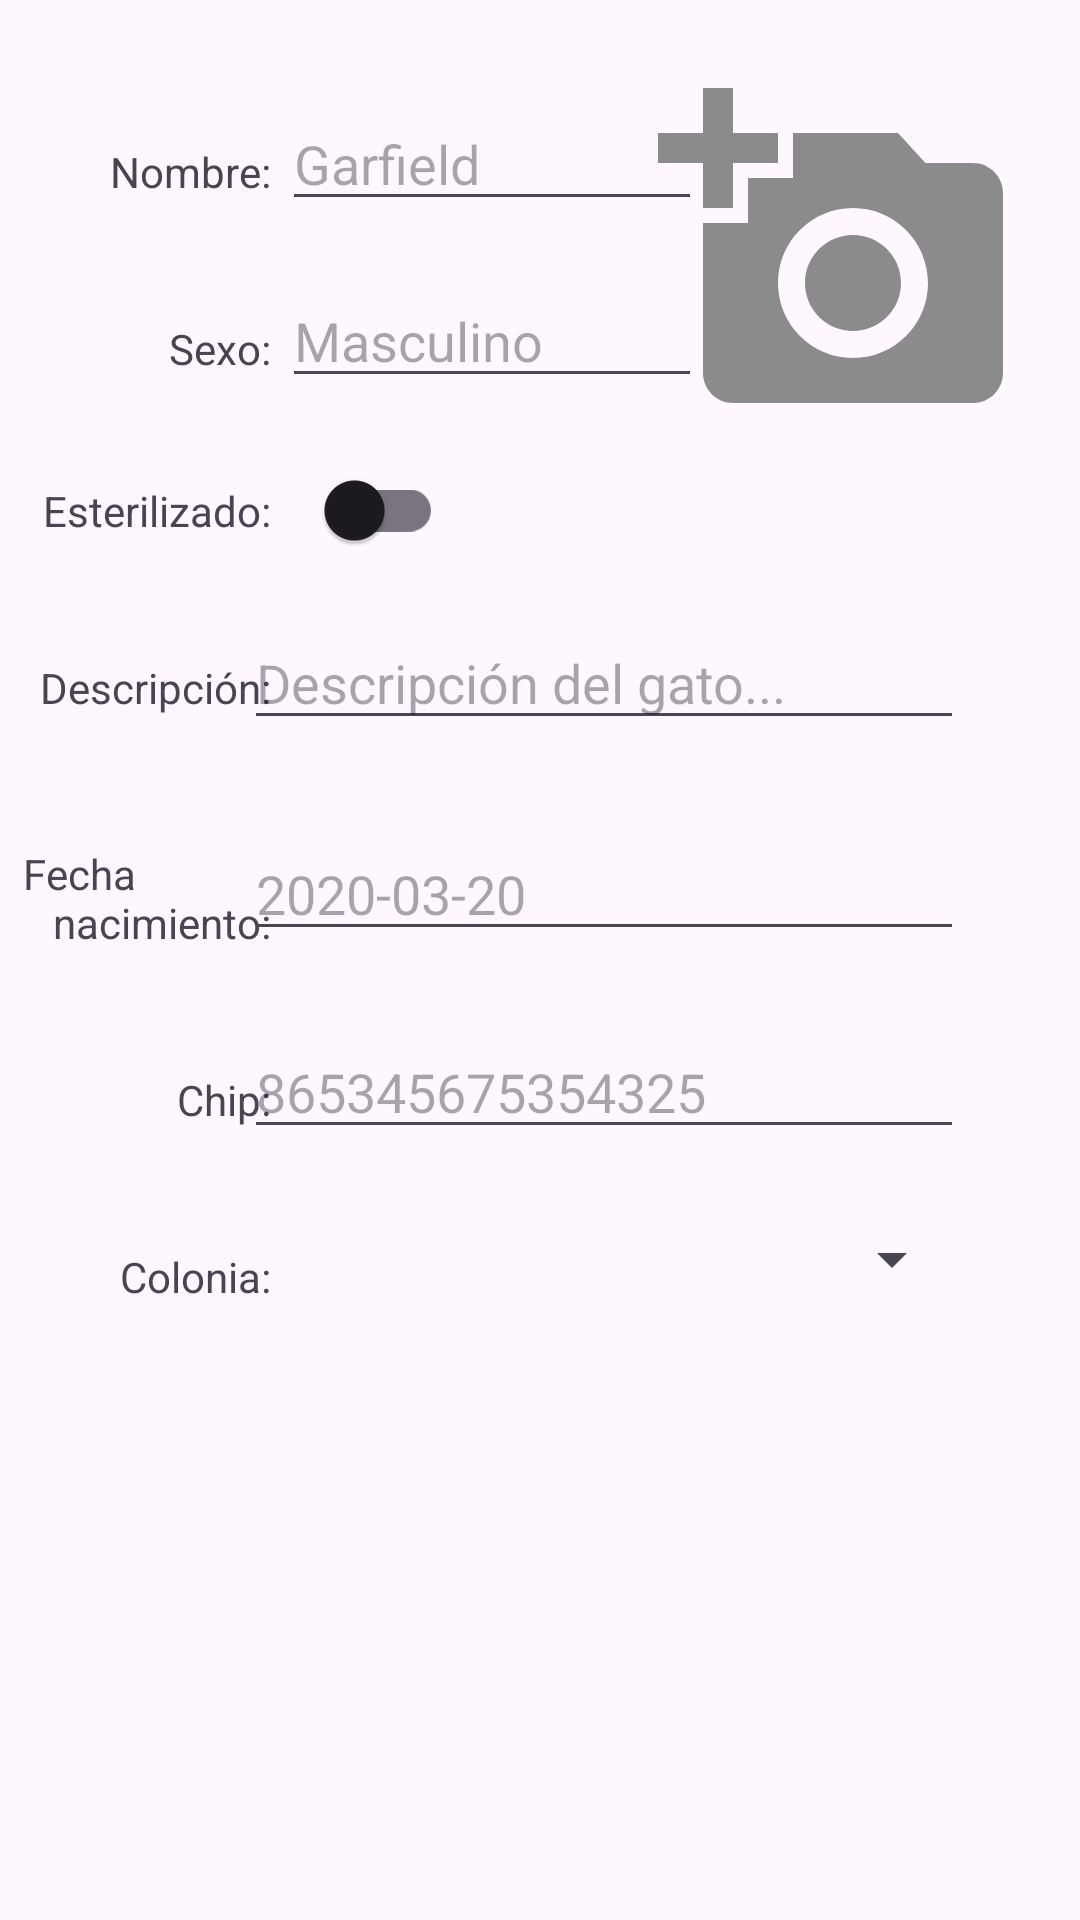

Icon click points for this 1080 x 1920 phone screenshot, format (x,y):
add photo: (830,245)
